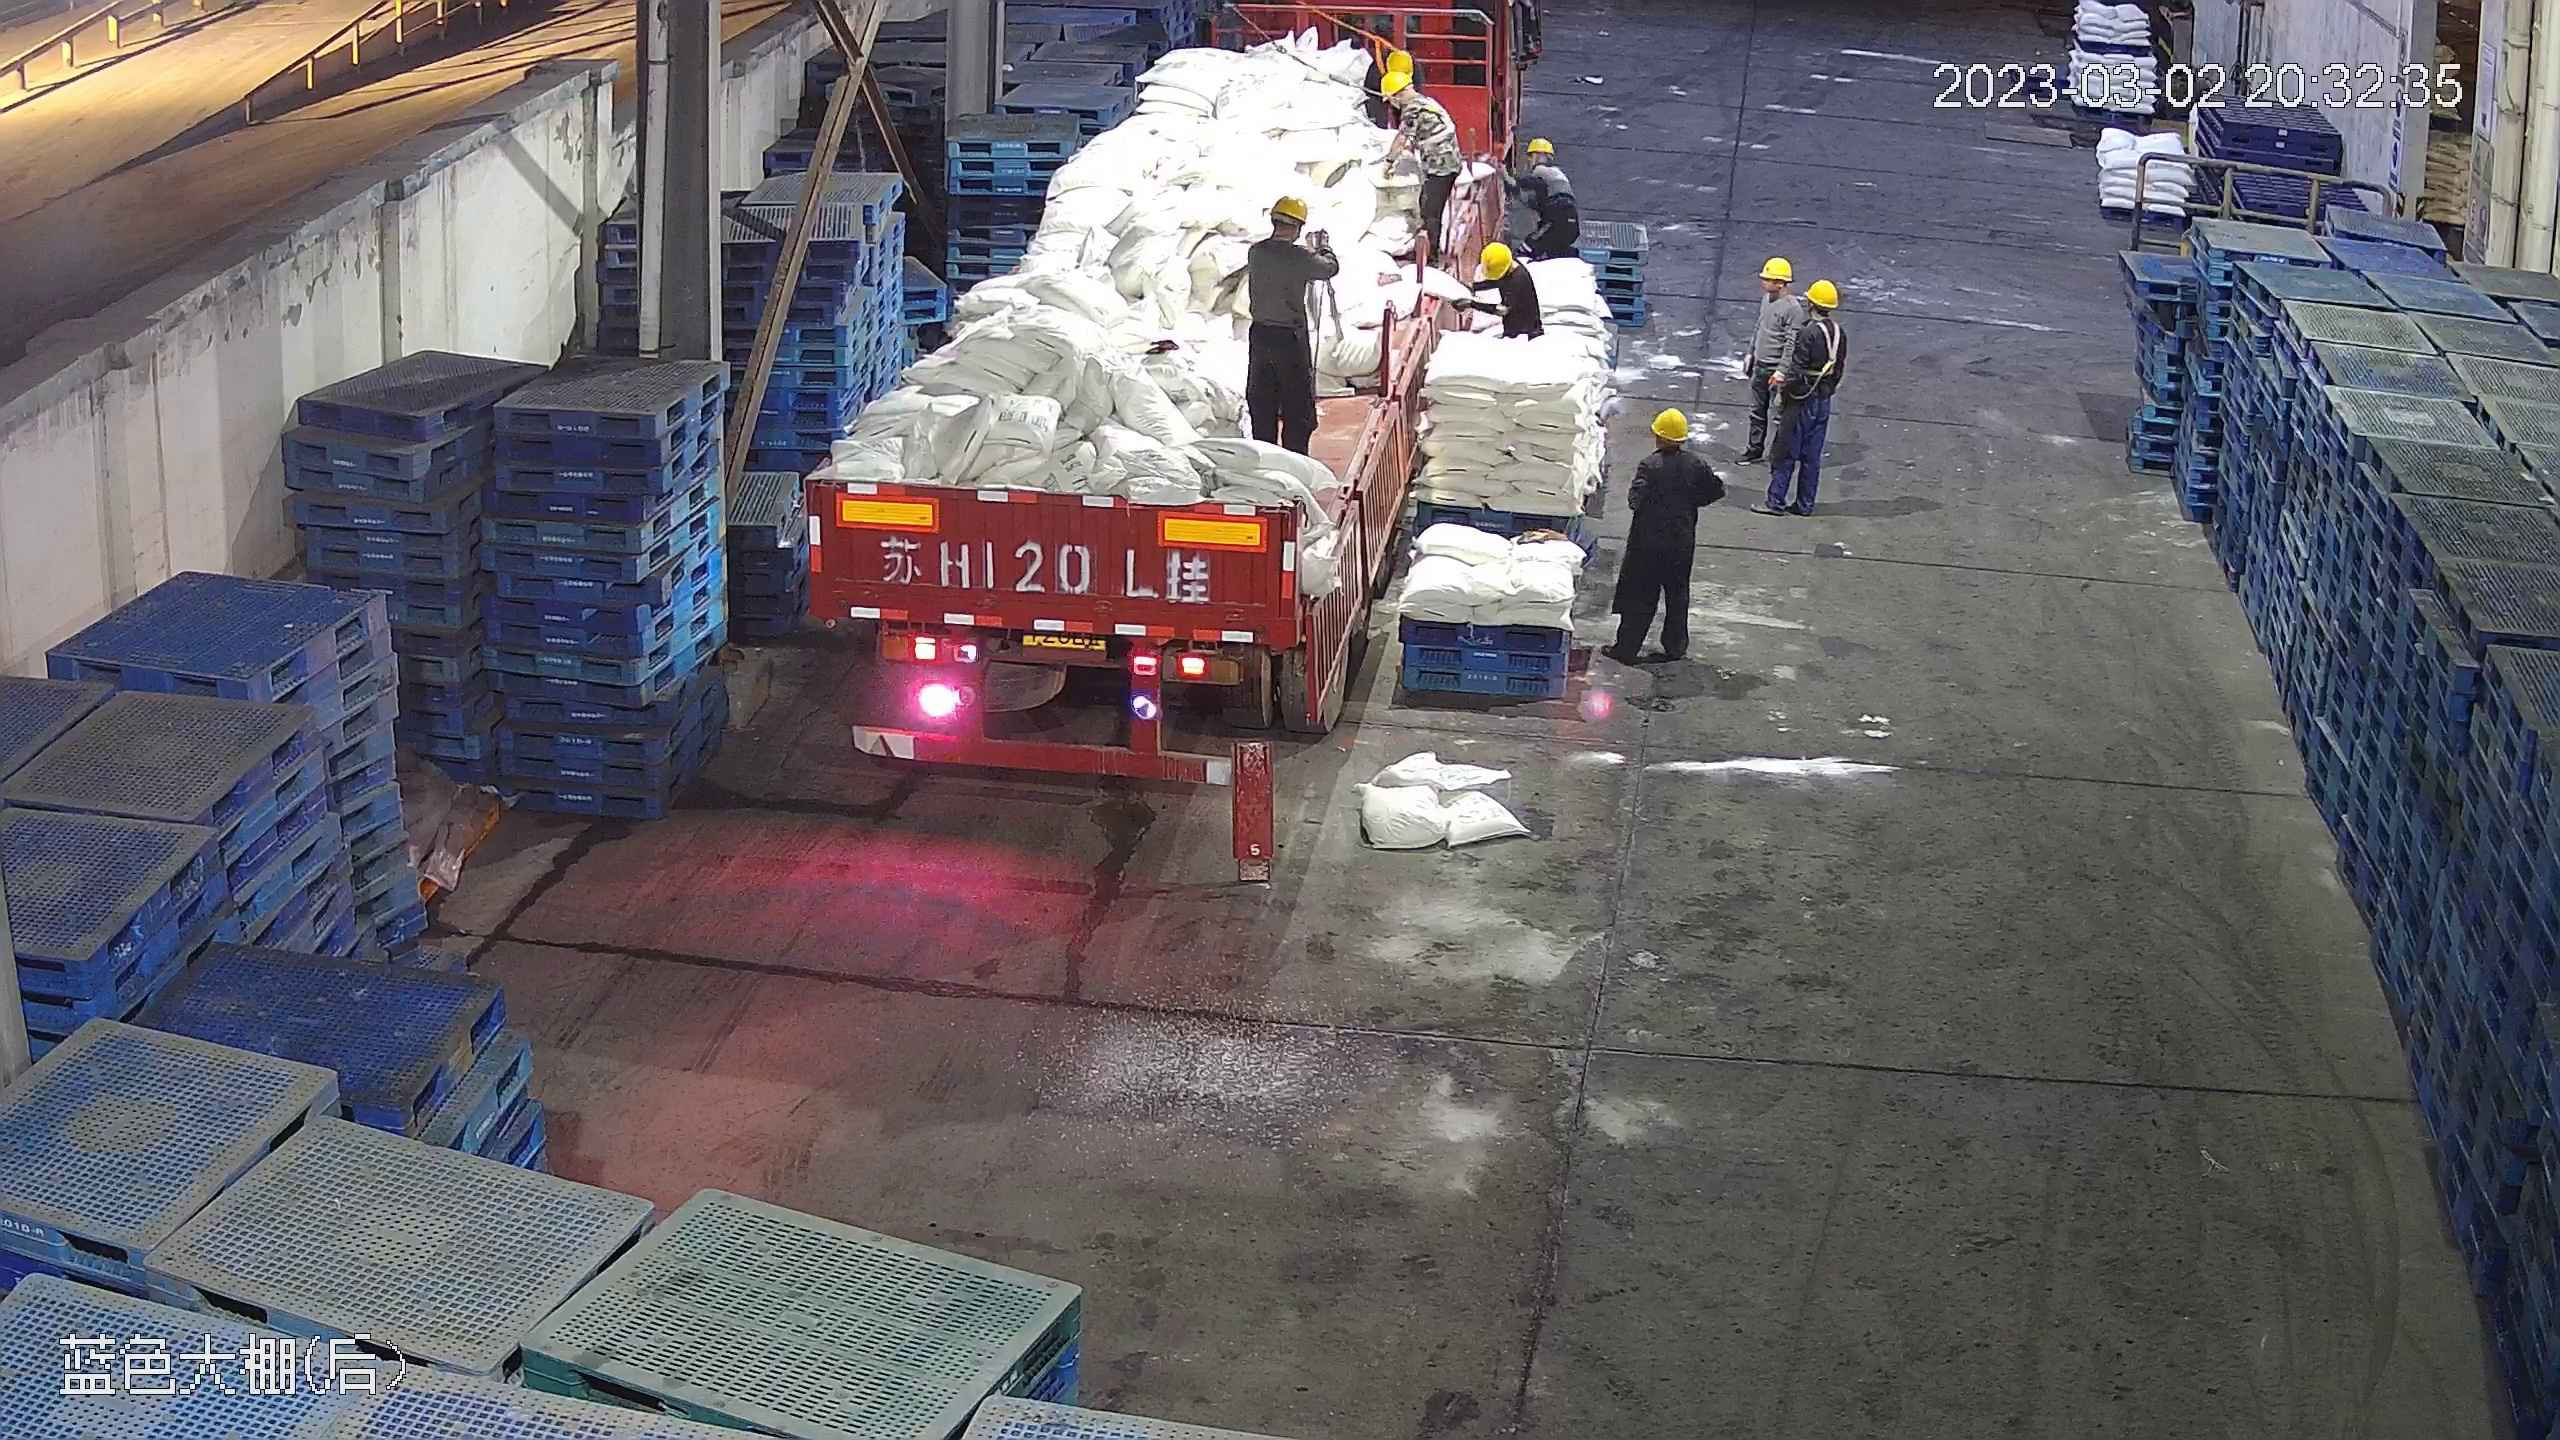belt: (1397, 96, 1449, 152), (1417, 92, 1455, 146), (1366, 33, 1402, 75)
head: (1632, 406, 1716, 493), (1243, 191, 1330, 273), (1468, 239, 1540, 307), (1511, 136, 1571, 199), (1790, 277, 1845, 348), (1381, 74, 1437, 132), (1752, 255, 1797, 323)
helmet: (1648, 405, 1692, 438), (1268, 192, 1311, 223), (1479, 239, 1516, 276), (1803, 278, 1840, 305), (1378, 73, 1414, 99), (1758, 254, 1791, 278), (1388, 51, 1416, 75), (1524, 135, 1556, 157)
people: (1602, 403, 1726, 663), (1217, 190, 1341, 449), (1368, 57, 1460, 280), (1761, 271, 1843, 512), (1743, 256, 1799, 484), (1505, 132, 1577, 291)
truck: (806, 1, 1530, 886)
